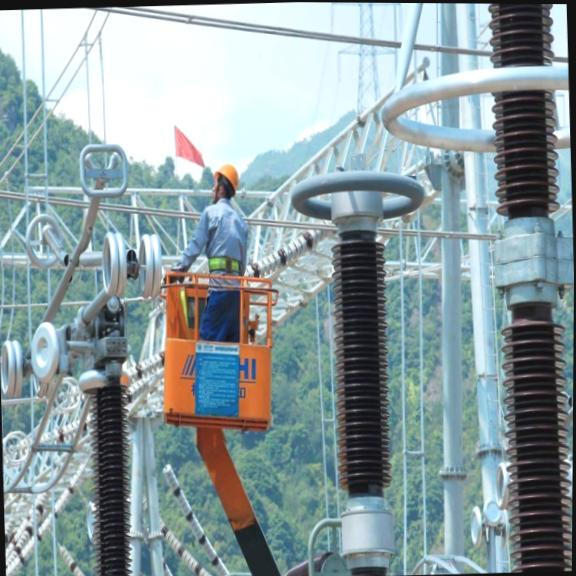no_safety_vest: (198, 192, 245, 284)
